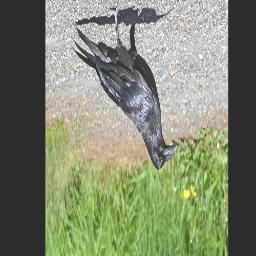Crow: (69, 0, 177, 171)
